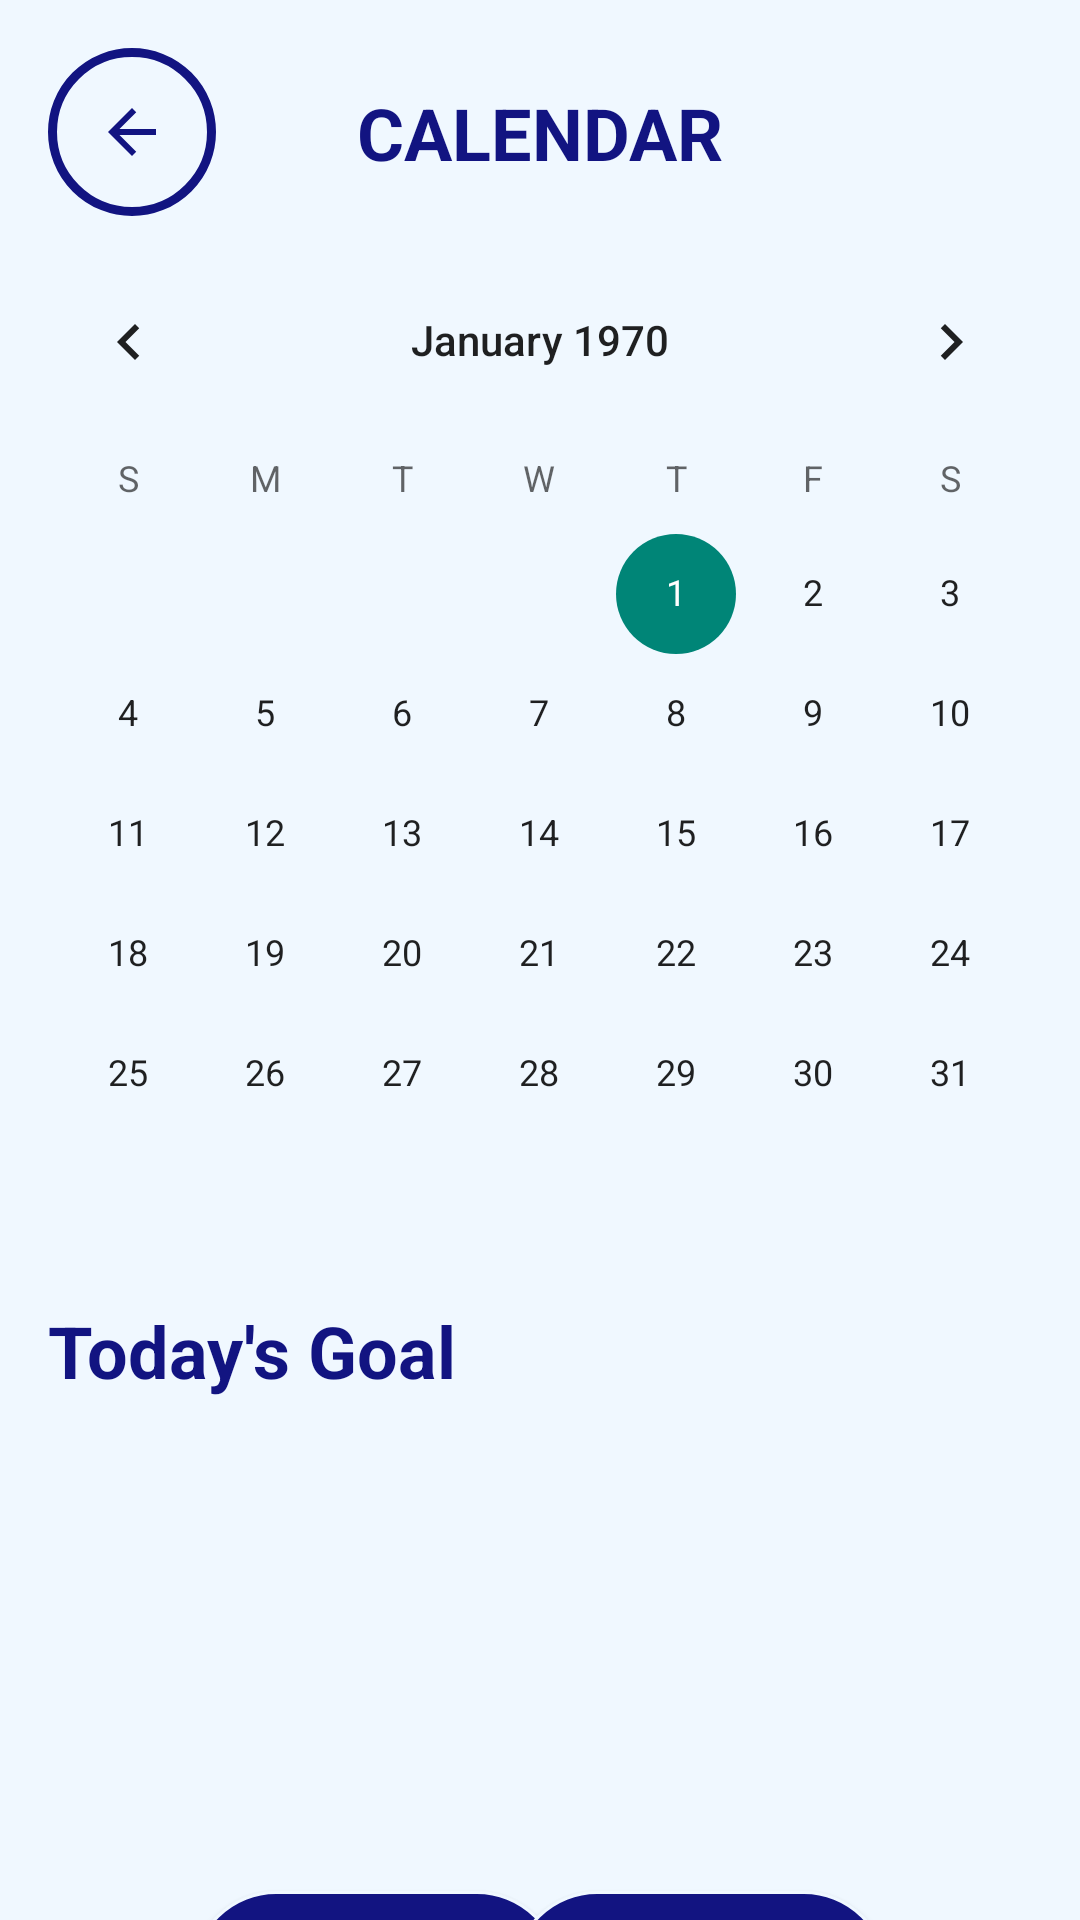

Screen size 1080px×1920px. Icon name, then its box in pixels as bbox=[x1, y1, x2, y2]:
Back Button: bbox=[48, 48, 216, 216]
